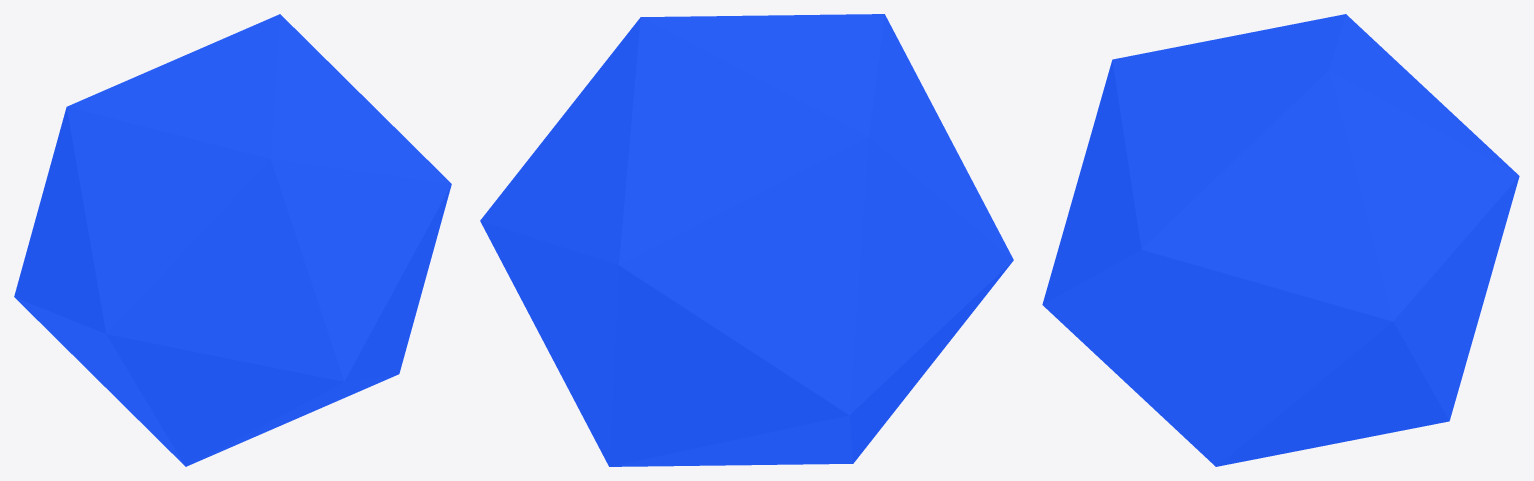
Rendered from Bomb.glb.
3 renders of one model, left to right at view 1: azimuth 30°, elevation 25°; view 2: azimuth 150°, elevation 25°; view 3: azimuth 270°, elevation 25°, orthographic. The views are drawn at different scales.
Parts seen in each view (by area): view 1: Icosphere; view 2: Icosphere; view 3: Icosphere.
Boxes of the visible parts, x1,y1,x2,y2 form: Icosphere: (14, 14, 451, 466); Icosphere: (480, 14, 1013, 466); Icosphere: (1042, 14, 1519, 466).
Bounding box in the file's own units: 1.78 × 1.84 × 1.92.
